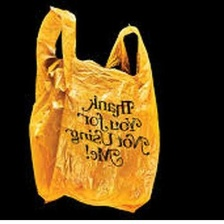plastic_bag: (18, 3, 163, 215)
